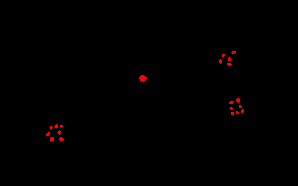Target: (139, 75, 147, 82), (236, 98, 240, 103), (57, 130, 61, 135), (59, 137, 64, 141), (54, 124, 58, 128), (46, 132, 50, 136), (50, 137, 54, 141), (231, 51, 236, 54), (219, 59, 222, 64), (227, 63, 232, 66), (229, 101, 234, 104), (228, 57, 231, 61), (241, 109, 244, 113), (222, 54, 225, 57), (239, 105, 242, 108), (230, 107, 233, 110), (236, 111, 239, 114), (231, 112, 234, 115), (60, 125, 63, 128), (50, 126, 53, 129)
